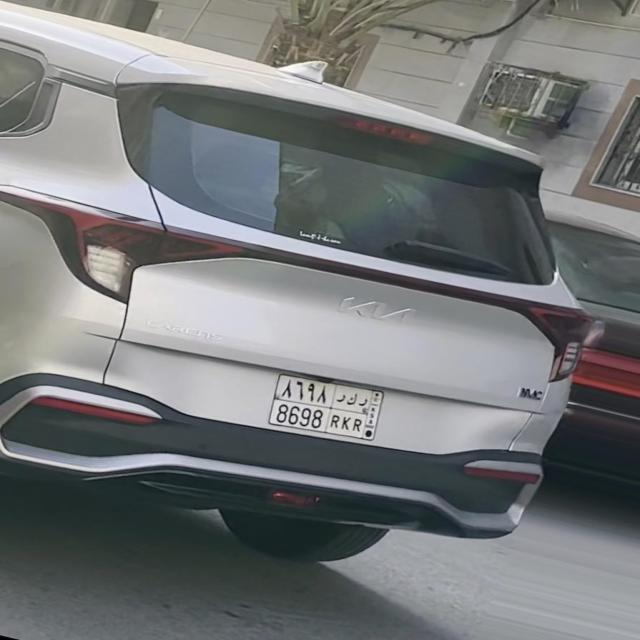Car-plate: (256, 363, 409, 451)
